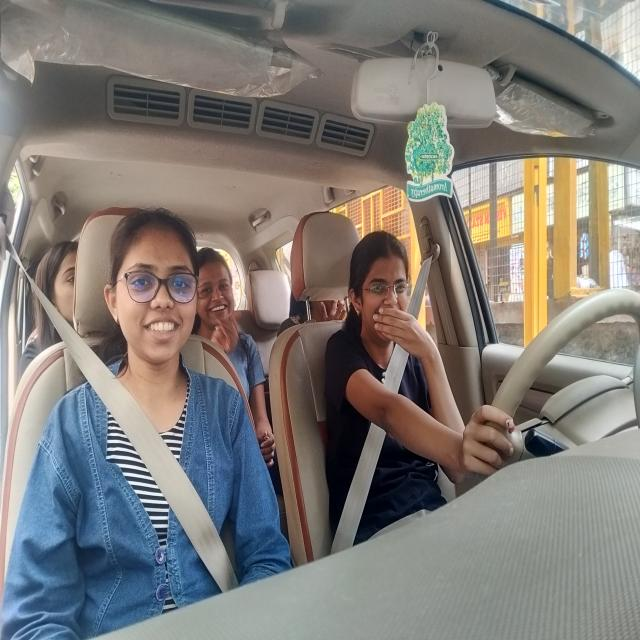drowsy: (341, 238, 418, 338)
person: (108, 213, 204, 358), (35, 240, 78, 332), (201, 244, 241, 339)
